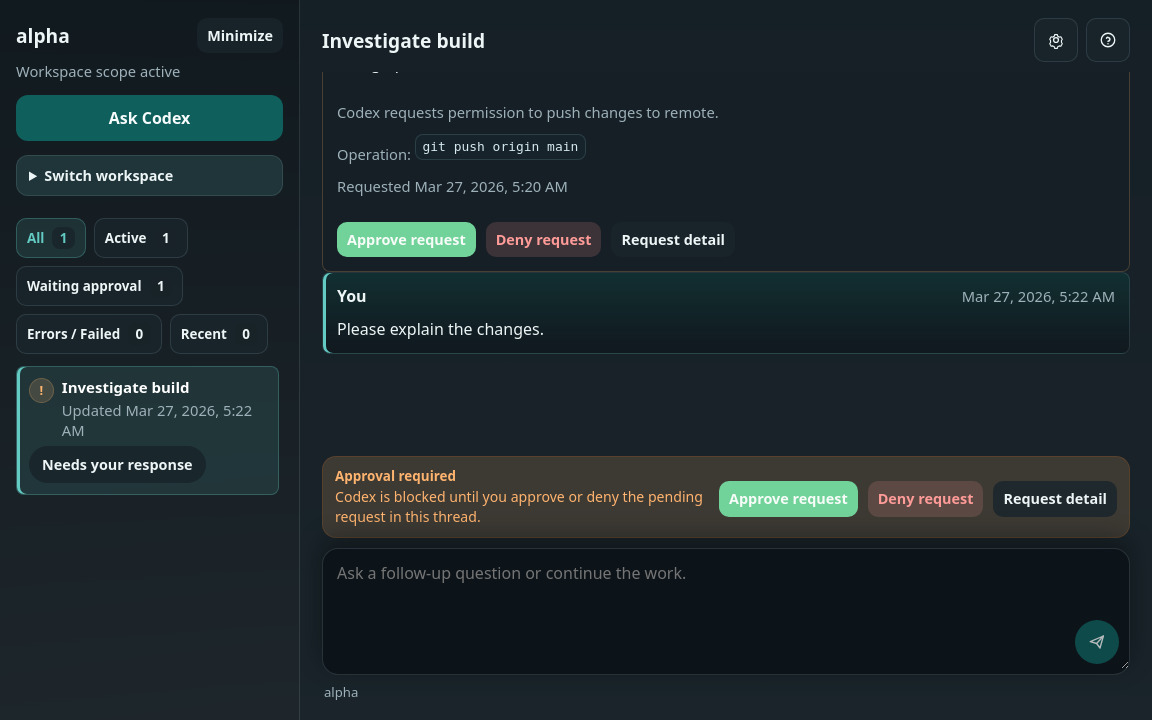
it: ChatPageClient › responds to a pending request from thread context instead of the approvals page
(page scrolled)
What coordinates should you click on to do the following:
click the button "Request detail" below "Requested"
I would click on:
 (673, 239)
Its box is [611,222,735,257].
(page scrolled)
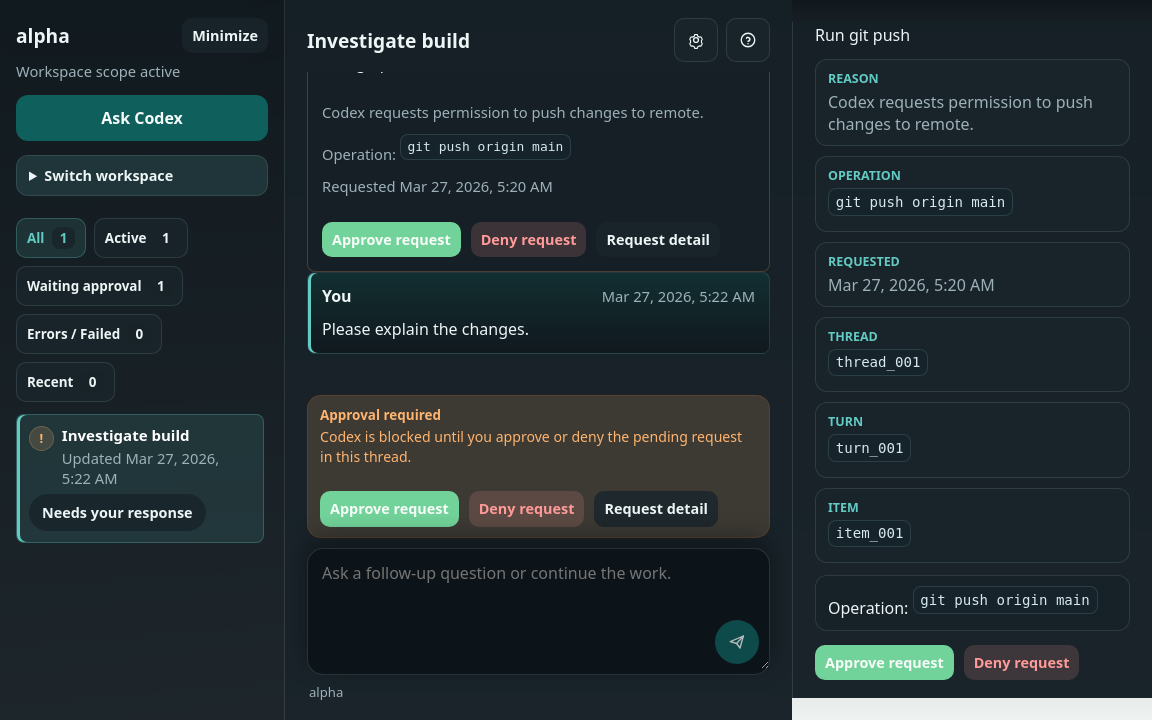
Expected: the text "Operation: git push origin main" is shown, [322,134,571,164]
Now the button "Approve request" below "item_001" is shown
What coordinates should you click on to do the following:
click the button "Approve request" below "item_001"
I would click on:
 (884, 662)
Its box is [815,644,954,680].
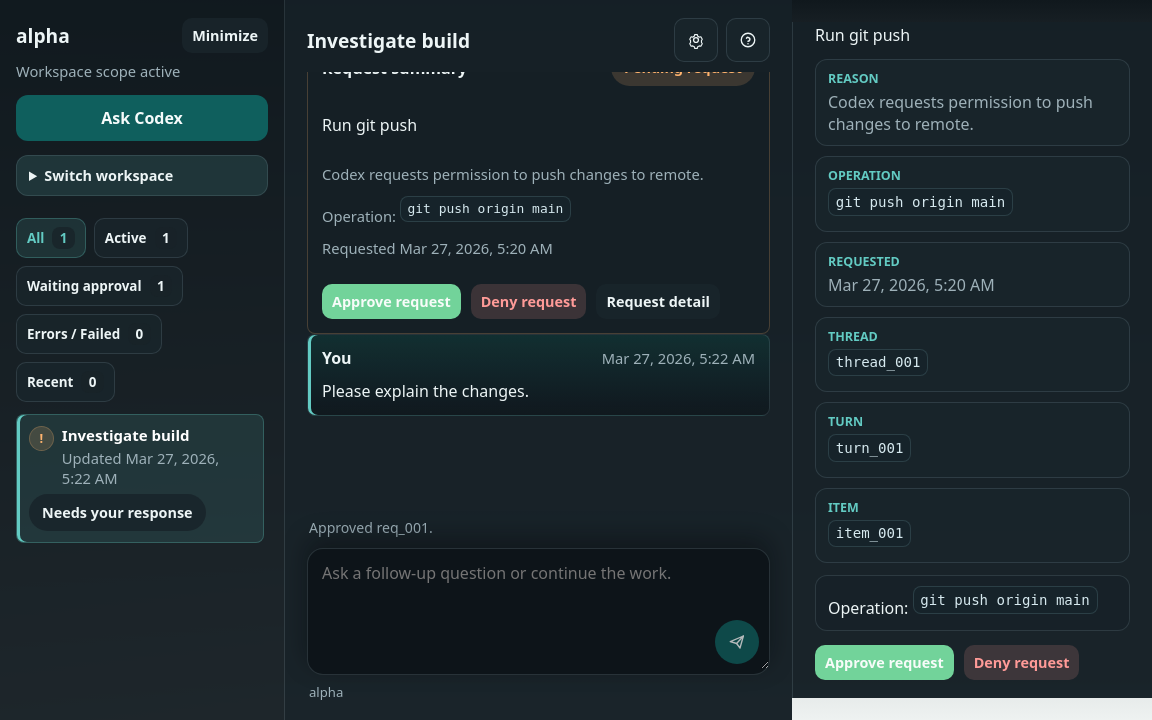
Now the message with class "thread-inline-status" reads "Approved req_001.", box [309,518,433,537]
